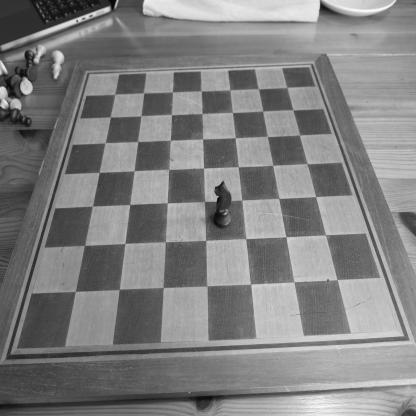black-knight: (213, 180, 232, 229)
black-pawn: (10, 107, 32, 127), (24, 50, 35, 68)
white-bishop: (50, 50, 65, 82)
white-pawn: (33, 44, 47, 66)
